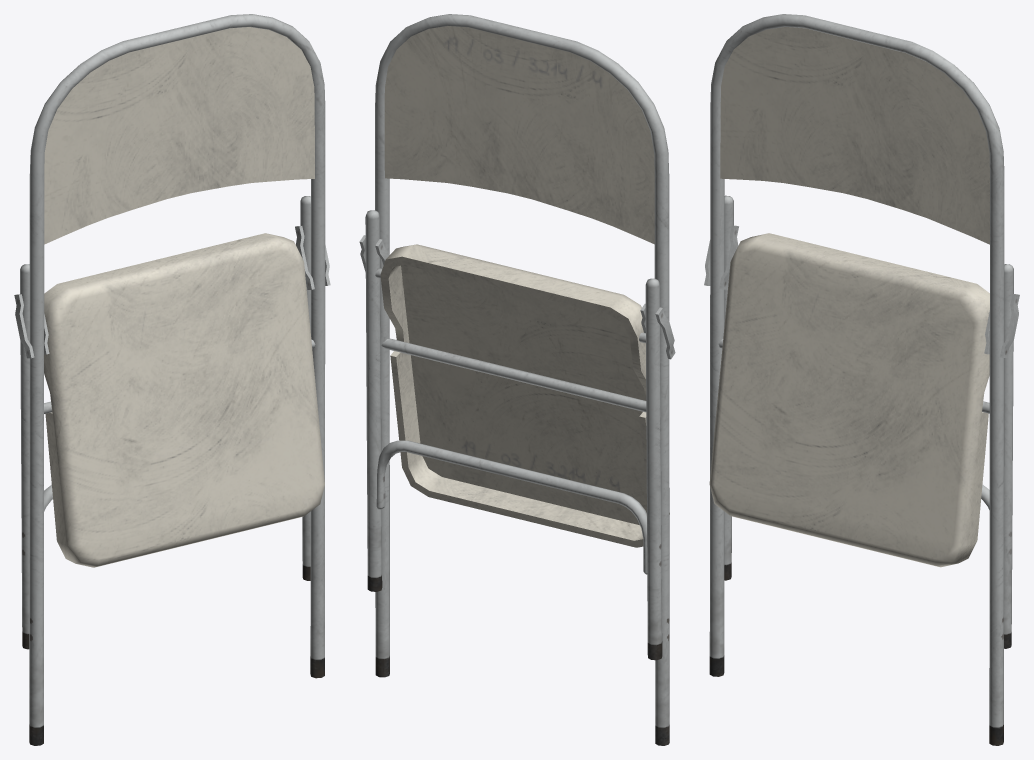
Rendered from OfficeChair_02a_snaps019.fbx.
3 views of the same model, side by side, from view 1: azimuth 30°, elevation 25°; view 2: azimuth 150°, elevation 25°; view 3: azimuth 330°, elevation 25° (orthographic).
Parts seen in each view (by area): view 1: OfficeChair_02a_snaps019_LOD0; view 2: OfficeChair_02a_snaps019_LOD0; view 3: OfficeChair_02a_snaps019_LOD0.
Boxes of the visible parts, left/top/right/bottom form: OfficeChair_02a_snaps019_LOD0: left=14, top=14, right=330, bottom=745; OfficeChair_02a_snaps019_LOD0: left=359, top=14, right=675, bottom=745; OfficeChair_02a_snaps019_LOD0: left=704, top=14, right=1019, bottom=745.
Size of what is drawn, in the model's own units: 47 by 100 by 10.98.
